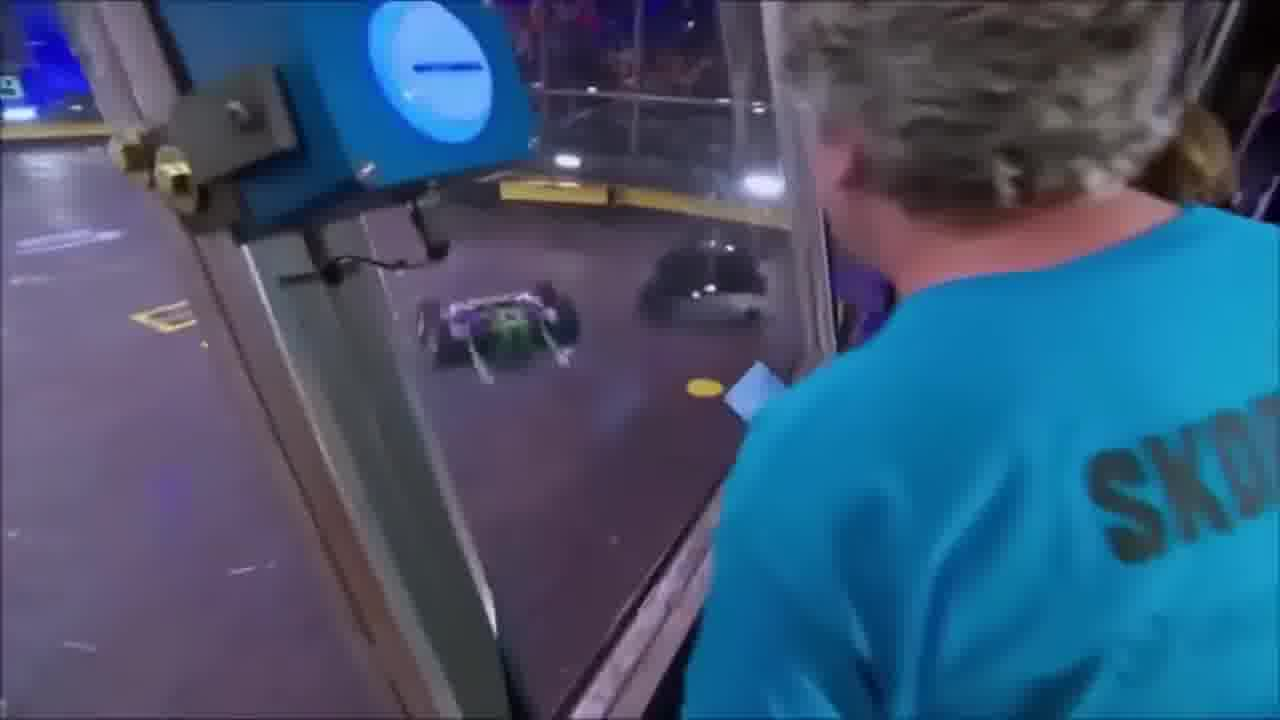combatbot: (418, 282, 580, 384), (636, 218, 777, 329)
